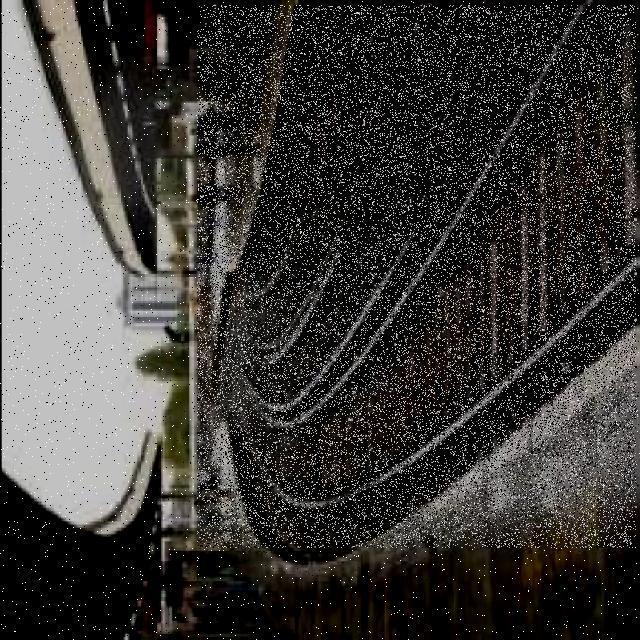rail: (198, 5, 636, 548)
